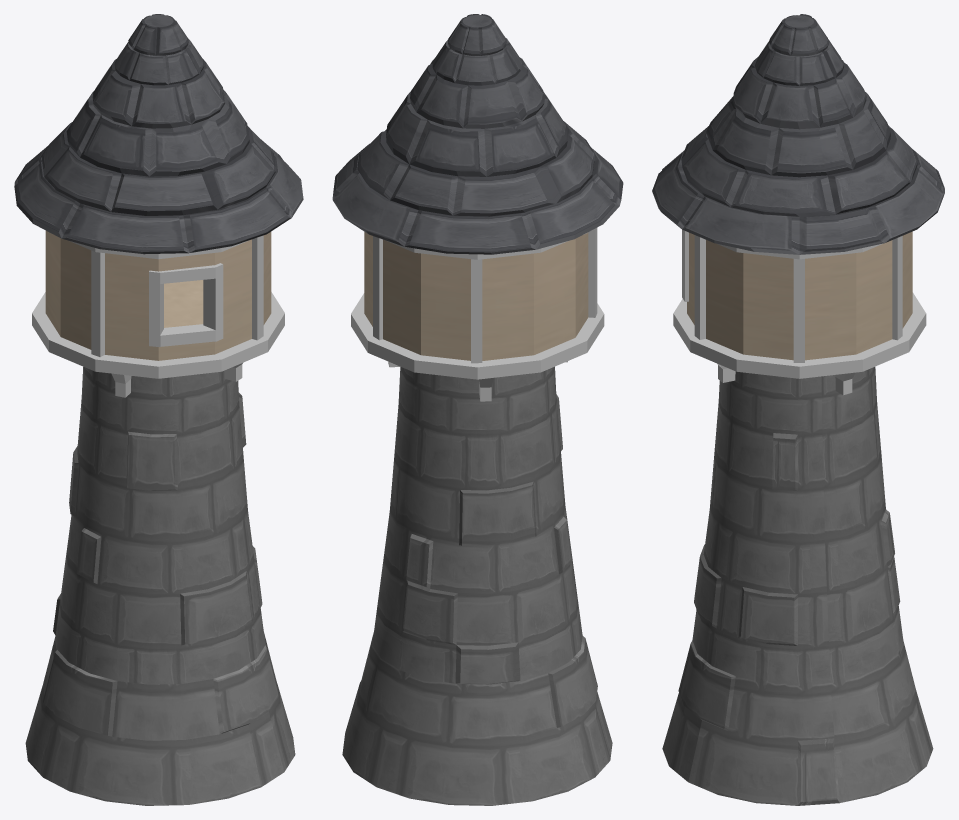
File: att_tower2-2_uv.fbx
The picture shows the model from 3 angles, left to right: view 1: azimuth 30°, elevation 25°; view 2: azimuth 150°, elevation 25°; view 3: azimuth 270°, elevation 25°; orthographic projection.
Visible parts, largest first — view 1: polySurface5; view 2: polySurface5; view 3: polySurface5.
Part boxes in pixels (x1,y1,x2,y2): polySurface5: (14, 14, 303, 805); polySurface5: (332, 14, 623, 805); polySurface5: (652, 14, 944, 805).
Bounding box in the file's own units: 47.54 × 131 × 47.93.
